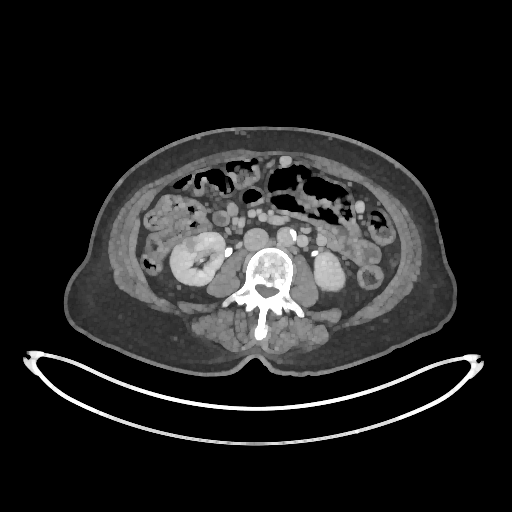Lesion: (182, 236, 198, 256)
